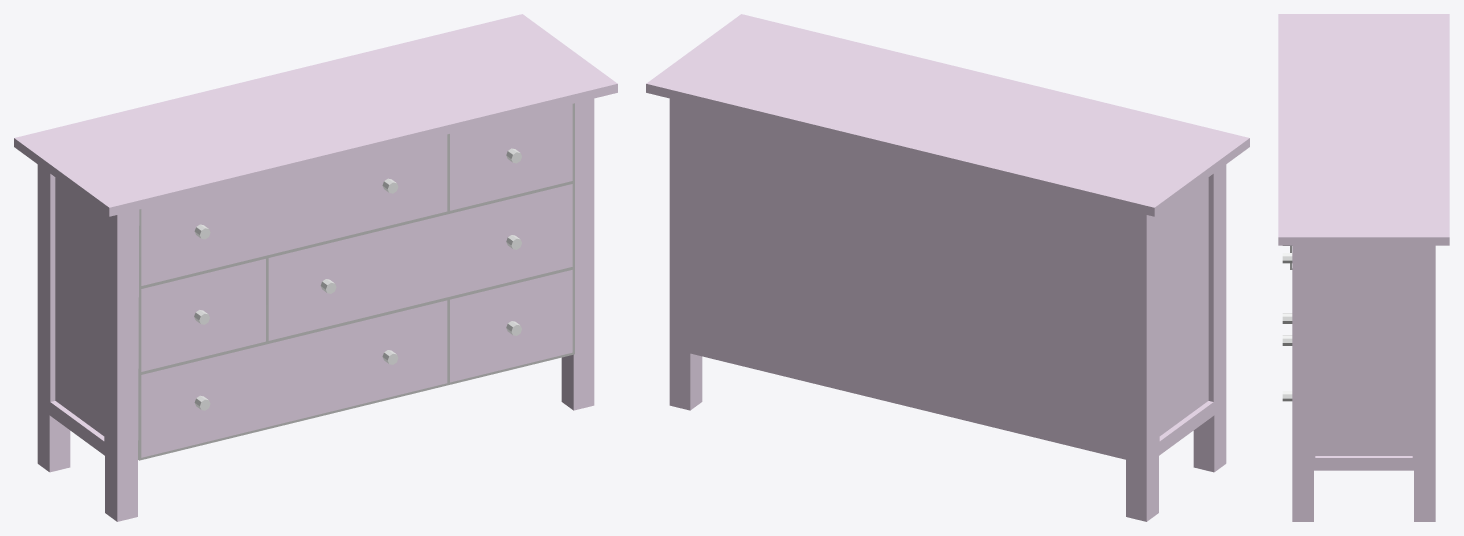
Rendered from dresser.fbx.
The picture shows the model from 3 angles, left to right: view 1: azimuth 30°, elevation 25°; view 2: azimuth 150°, elevation 25°; view 3: azimuth 270°, elevation 25°; orthographic projection. The views are drawn at different scales.
Parts seen in each view (by area): view 1: dresser; view 2: dresser; view 3: dresser.
Part boxes in pixels (x1,y1,x2,y2): dresser: (14,14,617,521); dresser: (646,14,1249,521); dresser: (1278,14,1449,521).
Size of the model in its own units: 2.06 by 1.25 by 0.6676.
